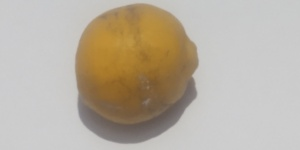BAD: (76, 4, 199, 128)
